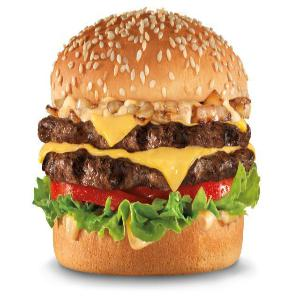cheeseburger: (28, 4, 274, 291)
